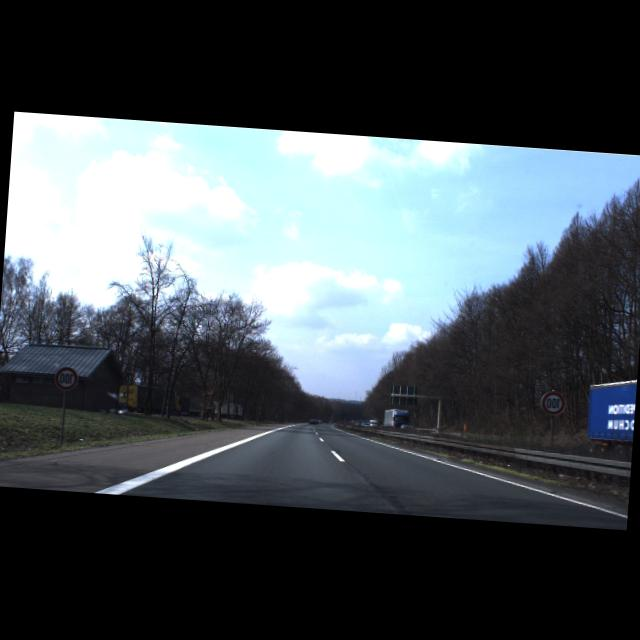prohibitory: (540, 388, 566, 415), (54, 364, 79, 390)
